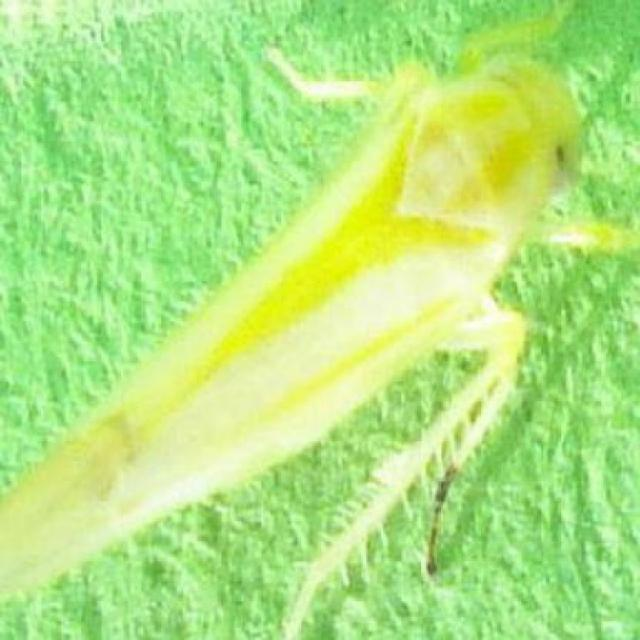green-leafhopper: (6, 60, 579, 586)
